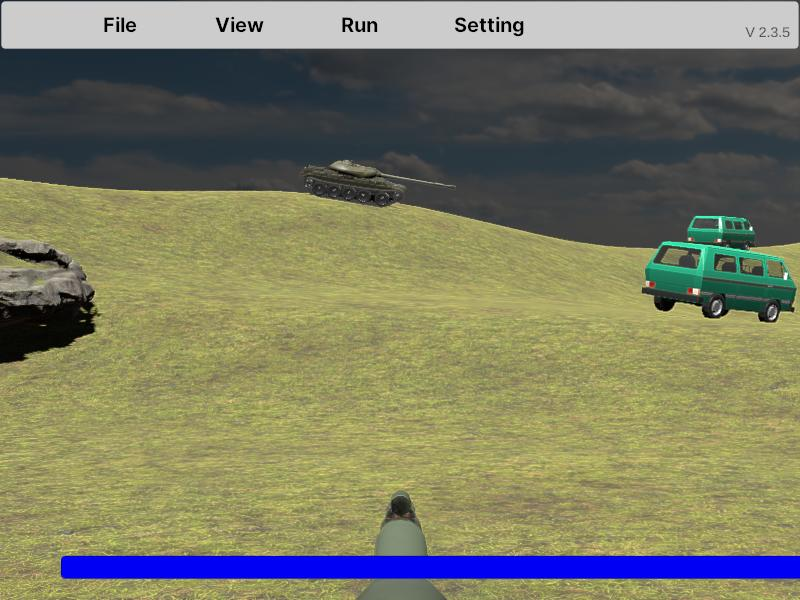Tank: (300, 160, 456, 208)
car: (642, 243, 797, 323), (688, 215, 755, 250)
